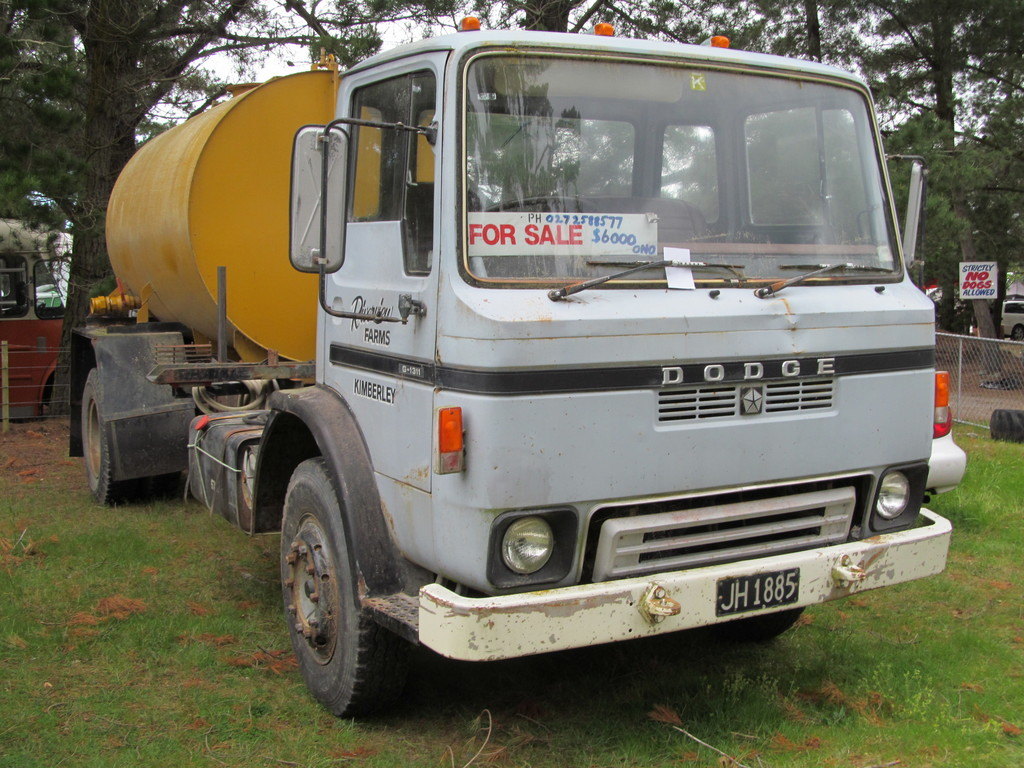truck: (70, 1, 963, 725)
